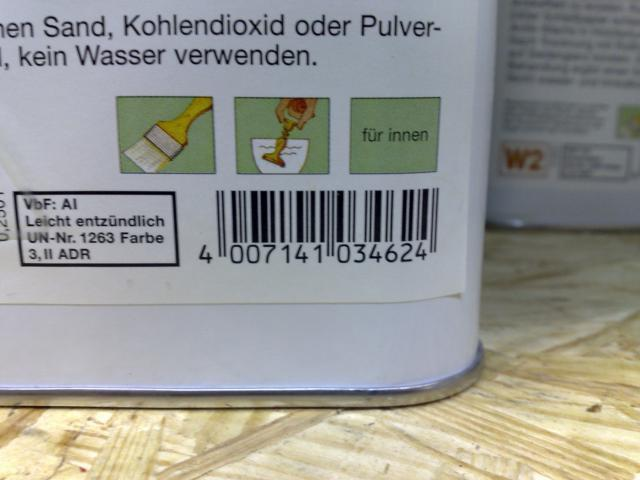Barcode: (191, 182, 445, 274)
